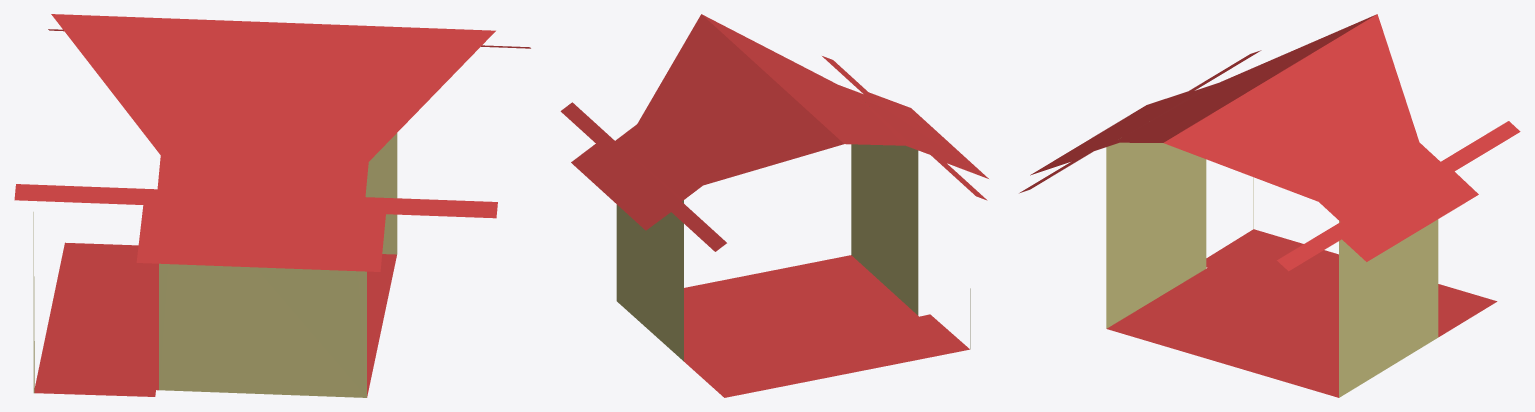
The picture shows the model from 3 angles, left to right: view 1: azimuth 30°, elevation 25°; view 2: azimuth 150°, elevation 25°; view 3: azimuth 270°, elevation 25°; orthographic projection. The views are drawn at different scales.
Size of the model in its own units: 17.93 by 17.31 by 9.6.
